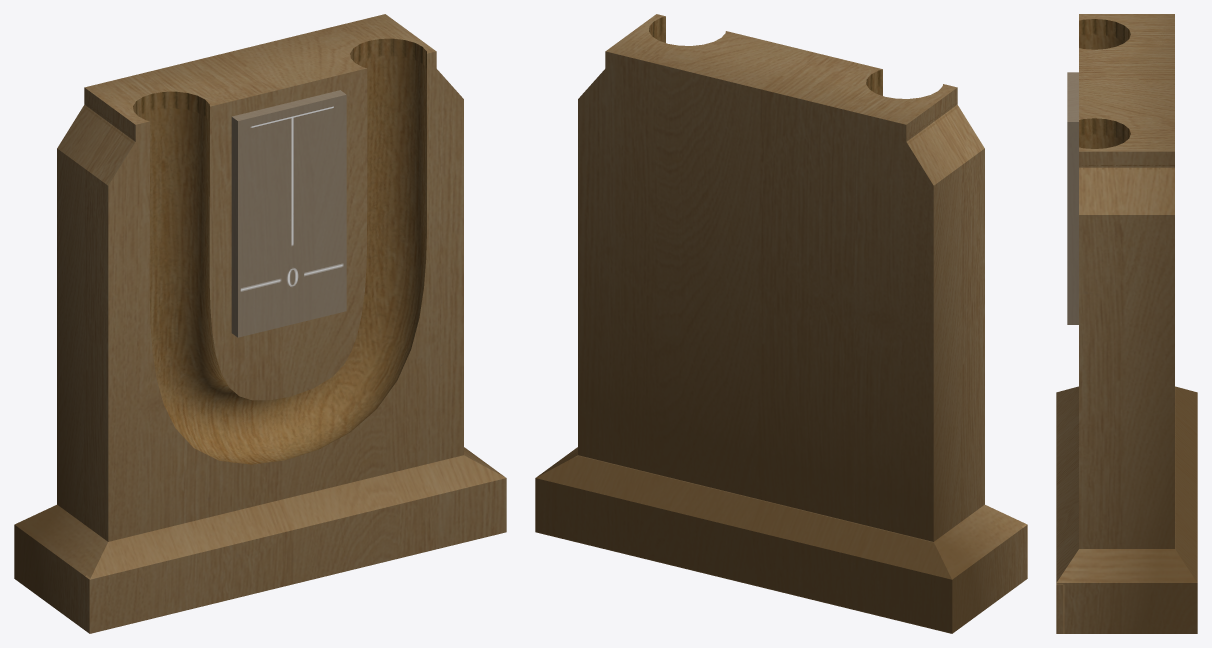
The model's file is U tube holder.fbx.
3 renders of one model, left to right at view 1: azimuth 30°, elevation 25°; view 2: azimuth 150°, elevation 25°; view 3: azimuth 270°, elevation 25°, orthographic. The views are drawn at different scales.
Visible parts, largest first — view 1: manometer_frame; view 2: manometer_frame; view 3: manometer_frame.
Part boxes in pixels (left/top/right/bottom): manometer_frame: left=14, top=14, right=506, bottom=633; manometer_frame: left=535, top=14, right=1027, bottom=633; manometer_frame: left=1056, top=14, right=1197, bottom=633.
Size of the model in its own units: 15.32 by 17.08 by 4.8.
Materials: 1 (1 with a texture image).
